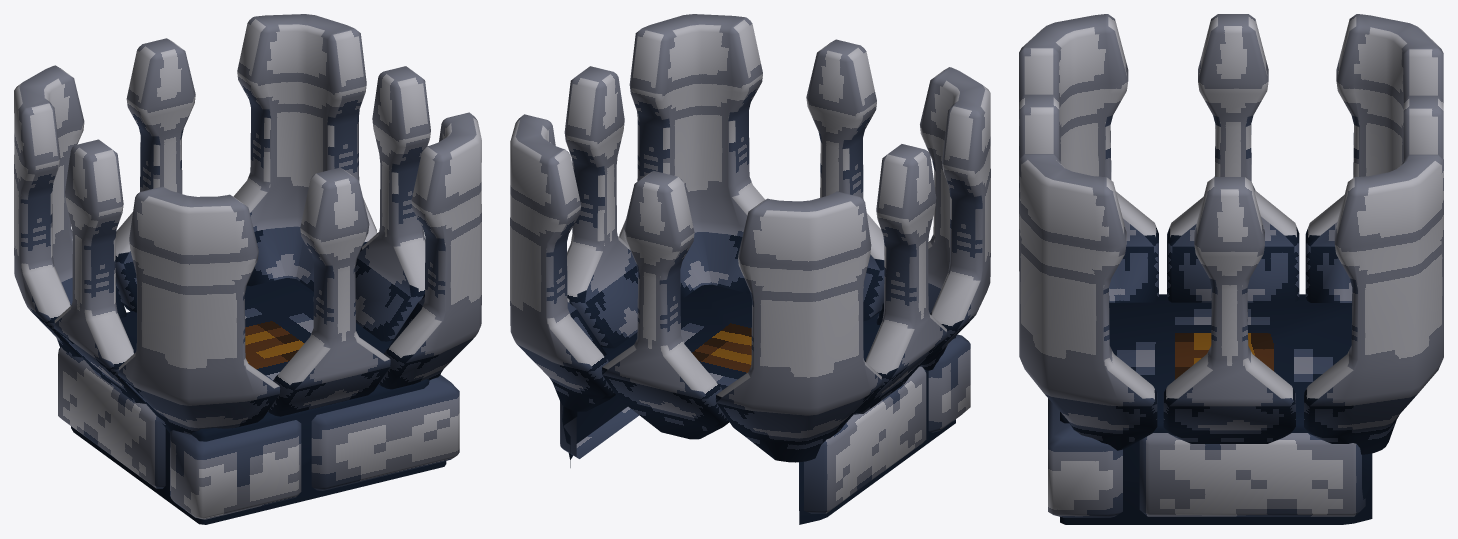
Rendered from tower_part_tooth.fbx.
The picture shows the model from 3 angles, left to right: view 1: azimuth 30°, elevation 25°; view 2: azimuth 150°, elevation 25°; view 3: azimuth 270°, elevation 25°; orthographic projection. The views are drawn at different scales.
Parts seen in each view (by area): view 1: tower_open; view 2: tower_open; view 3: tower_open.
Part boxes in pixels (x1,y1,x2,y2): tower_open: (14, 14, 481, 524); tower_open: (510, 14, 990, 524); tower_open: (1019, 14, 1443, 524).
Bounding box in the file's own units: 273 × 272 × 253.
